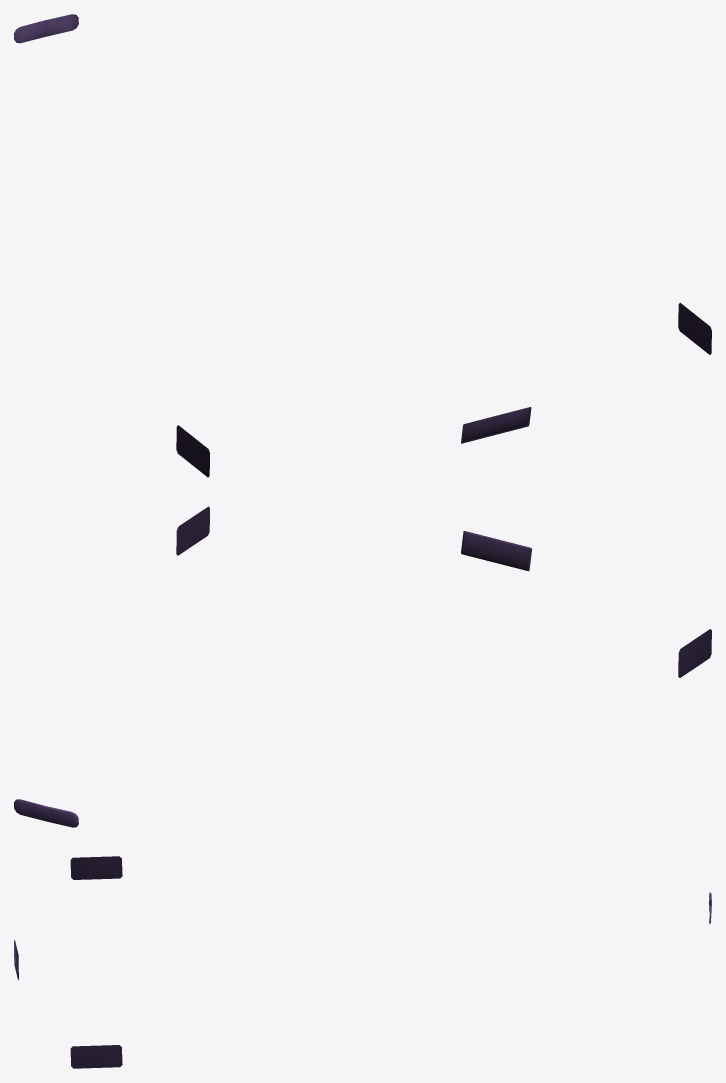
Rendered from MX5_Chassis_Detail.fbx.
The picture shows the model from 3 angles, top to bottom: view 1: azimuth 30°, elevation 25°; view 2: azimuth 150°, elevation 25°; view 3: azimuth 270°, elevation 25°; orthographic projection. The views are drawn at different scales.
Parts seen in each view (by area): view 1: MX5_Chassis_Detail; view 2: MX5_Chassis_Detail; view 3: MX5_Chassis_Detail.
Boxes of the visible parts, box(x1,y1,x2,y2) form: MX5_Chassis_Detail: box(14, 14, 711, 477); MX5_Chassis_Detail: box(14, 506, 711, 827); MX5_Chassis_Detail: box(14, 856, 711, 1068).
Bounding box in the file's own units: 133 × 23.75 × 208.
